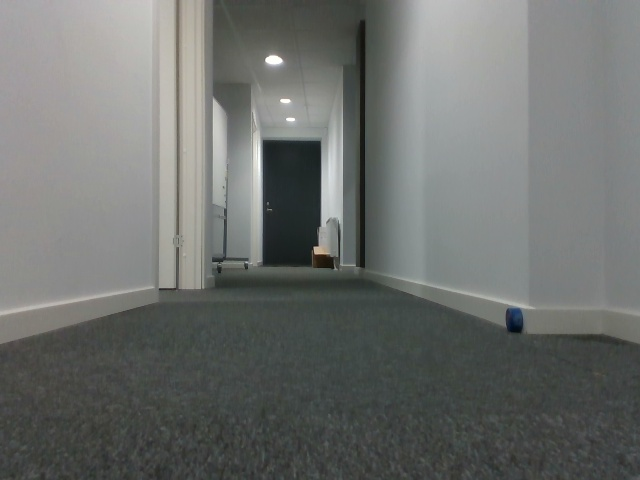alfa: (501, 305, 525, 335)
